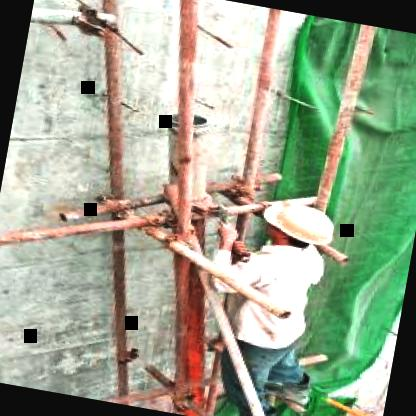helmet: (242, 187, 350, 269)
